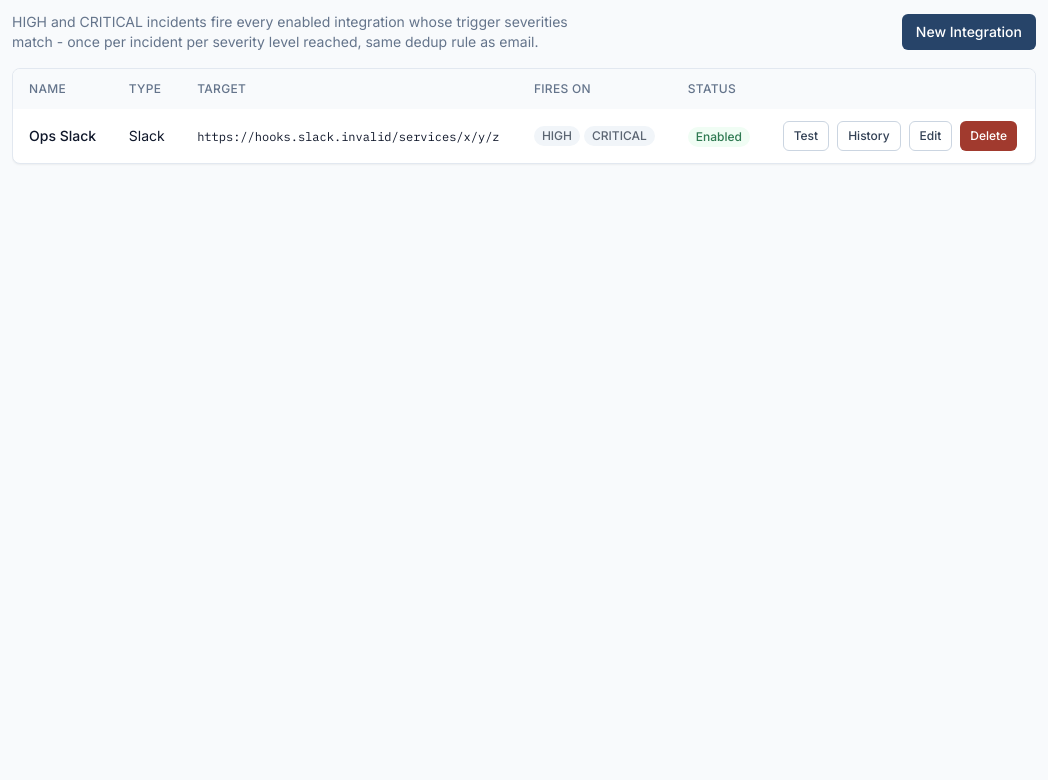
Test: IntegrationsPanel › tests an integration and reports the result
This screenshot has width=1048, height=780.
Expected: the text "Ops Slack" is shown, [29,127,96,144]
Click the button "Test" at (806, 136), box [783,121,829,151]
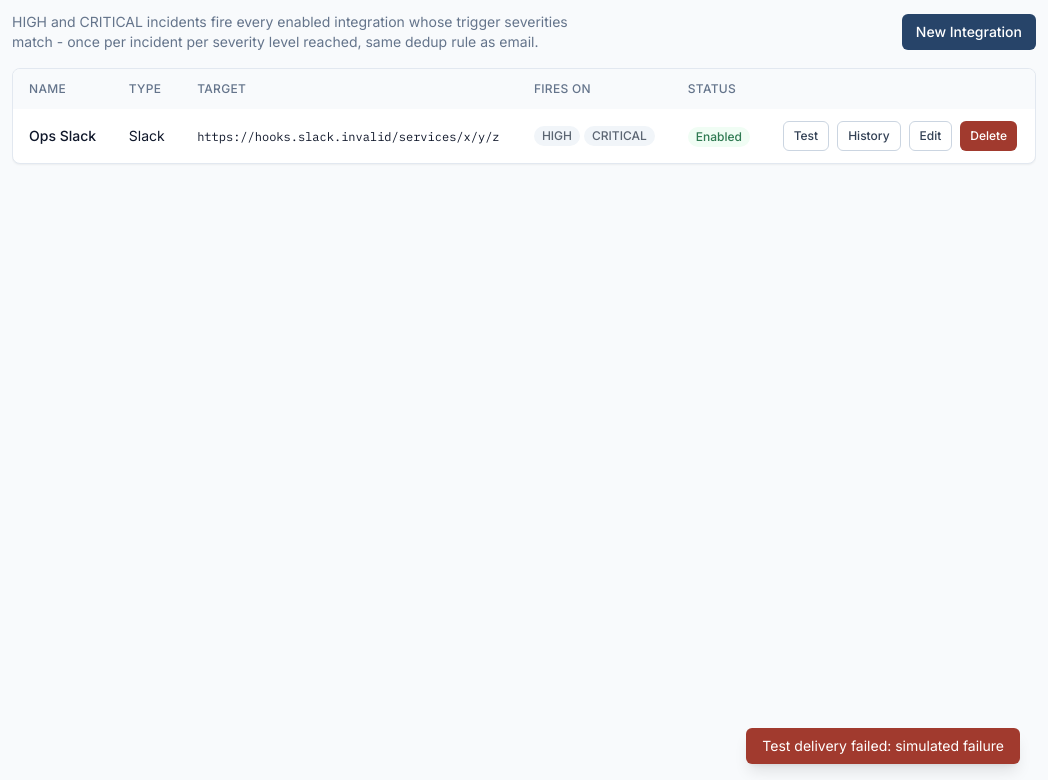
Expected: the text "Test delivery failed: simulated failure" is shown, [746,728,1020,764]
